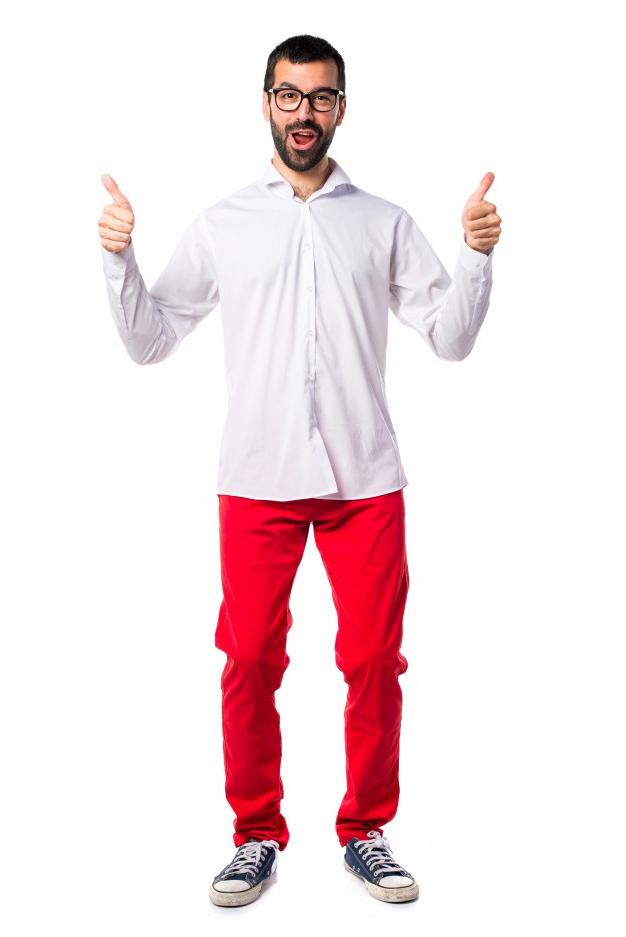thumbsup: (465, 172, 502, 250), (98, 174, 135, 252)
